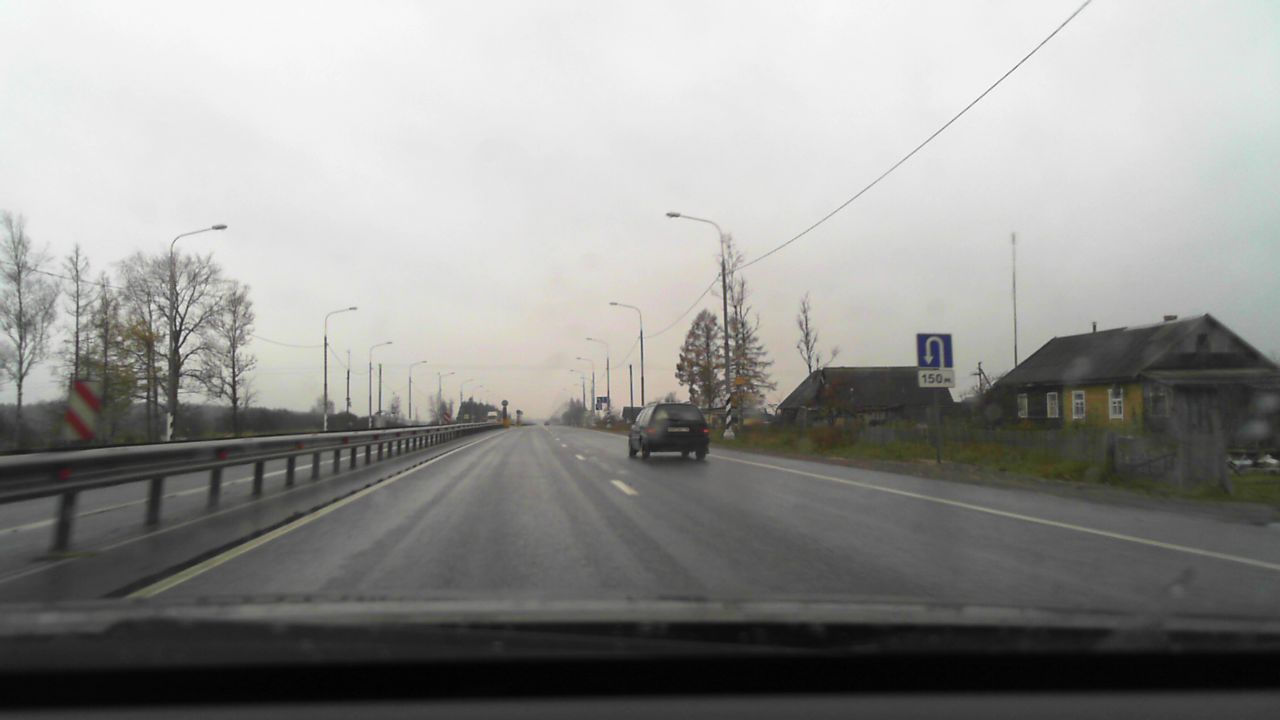U-turn: (917, 333, 955, 369)
